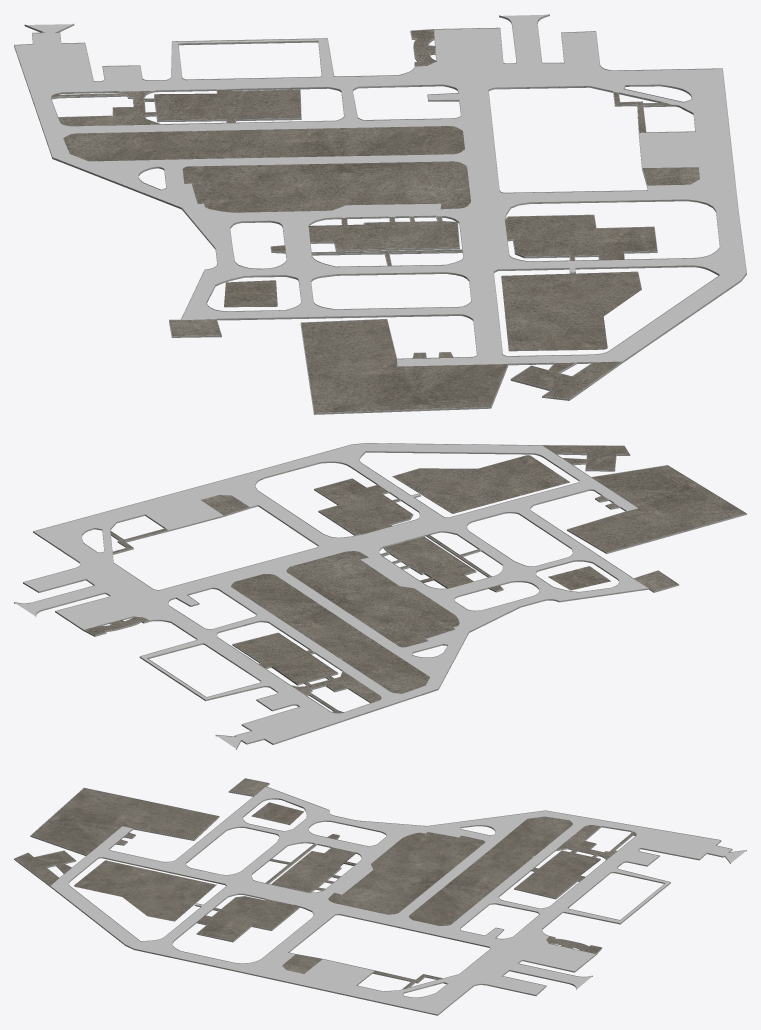
The model's file is road_p04_03.fbx.
3 renders of one model, top to bottom at view 1: azimuth 30°, elevation 25°; view 2: azimuth 150°, elevation 25°; view 3: azimuth 270°, elevation 25°, orthographic. The views are drawn at different scales.
Parts seen in each view (by area): view 1: road_p04_03; view 2: road_p04_03; view 3: road_p04_03.
Boxes of the visible parts, x1=… form: road_p04_03: x1=14, y1=14, x2=746, y2=414; road_p04_03: x1=14, y1=443, x2=746, y2=749; road_p04_03: x1=14, y1=778, x2=746, y2=1015.
Bounding box in the file's own units: 29361 × 70.02 × 38458.
